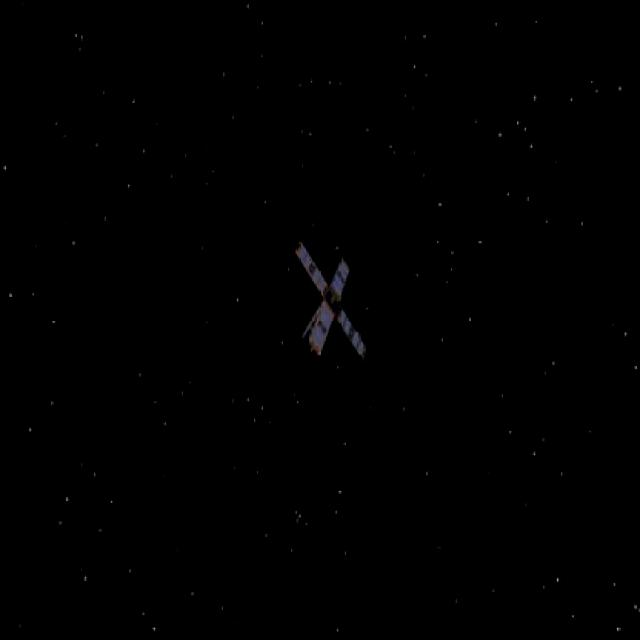medium_debris: (288, 242, 379, 370)
